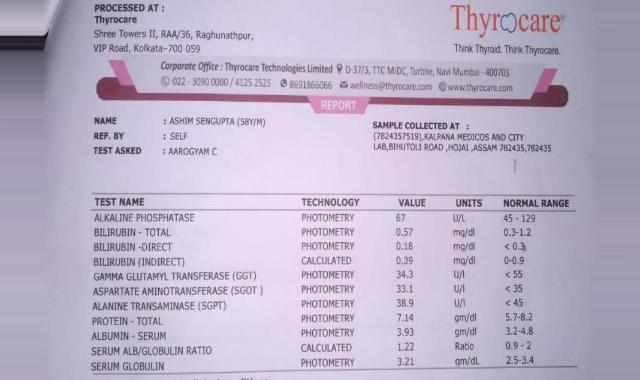Name: (170, 114, 269, 130)
Ref_By: (168, 131, 193, 142)
Reference_Range: (501, 211, 542, 368)
Technology: (295, 211, 366, 371)
Test_Asked: (166, 143, 222, 157)
Test_Name: (92, 211, 271, 378)
Unit: (448, 210, 489, 369)
Value: (392, 211, 430, 370)
